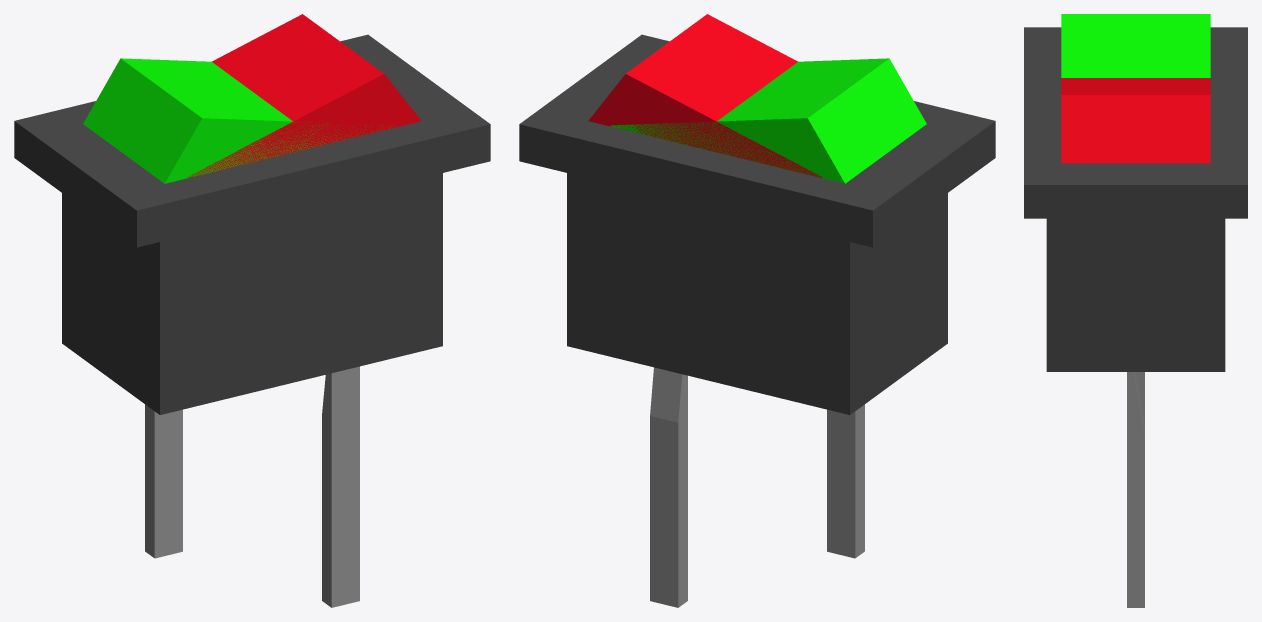
Rendered from ChaveComponente.fbx.
The picture shows the model from 3 angles, left to right: view 1: azimuth 30°, elevation 25°; view 2: azimuth 150°, elevation 25°; view 3: azimuth 270°, elevation 25°; orthographic projection. The views are drawn at different scales.
Parts seen in each view (by area): view 1: Chave, ChaveLigada, ChaveDesligada, ChaveContatoPower, ChaveContatoGround; view 2: Chave, ChaveLigada, ChaveDesligada, ChaveContatoPower, ChaveContatoGround; view 3: Chave, ChaveDesligada, ChaveLigada, ChaveContatoPower.
Part boxes in pixels (bbox=[...]): Chave: bbox=[14, 34, 490, 414]; ChaveLigada: bbox=[83, 58, 390, 183]; ChaveDesligada: bbox=[187, 14, 421, 177]; ChaveContatoPower: bbox=[322, 366, 359, 607]; ChaveContatoGround: bbox=[145, 404, 182, 558]; Chave: bbox=[519, 34, 995, 414]; ChaveLigada: bbox=[610, 58, 926, 183]; ChaveDesligada: bbox=[588, 14, 822, 178]; ChaveContatoPower: bbox=[650, 367, 687, 607]; ChaveContatoGround: bbox=[827, 404, 864, 558]; Chave: bbox=[1024, 27, 1247, 371]; ChaveDesligada: bbox=[1061, 78, 1210, 163]; ChaveLigada: bbox=[1061, 14, 1210, 77]; ChaveContatoPower: bbox=[1127, 372, 1144, 607].
Size of the model in its own units: 100 by 150 by 60.
